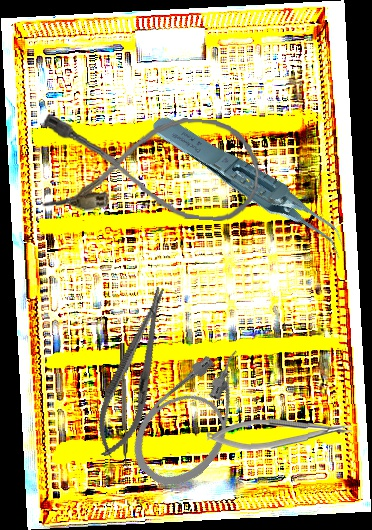Cannula: (117, 333, 277, 501), (37, 108, 264, 224)
Chopper: (119, 342, 134, 473)
Needle Holder: (86, 281, 183, 464), (206, 416, 353, 452)
Tissue Forceps: (148, 81, 353, 294)
